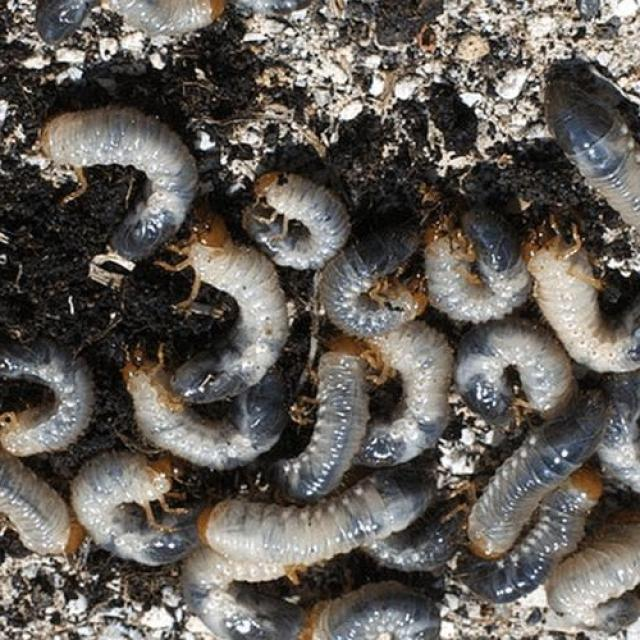grub: (21, 103, 631, 613)
